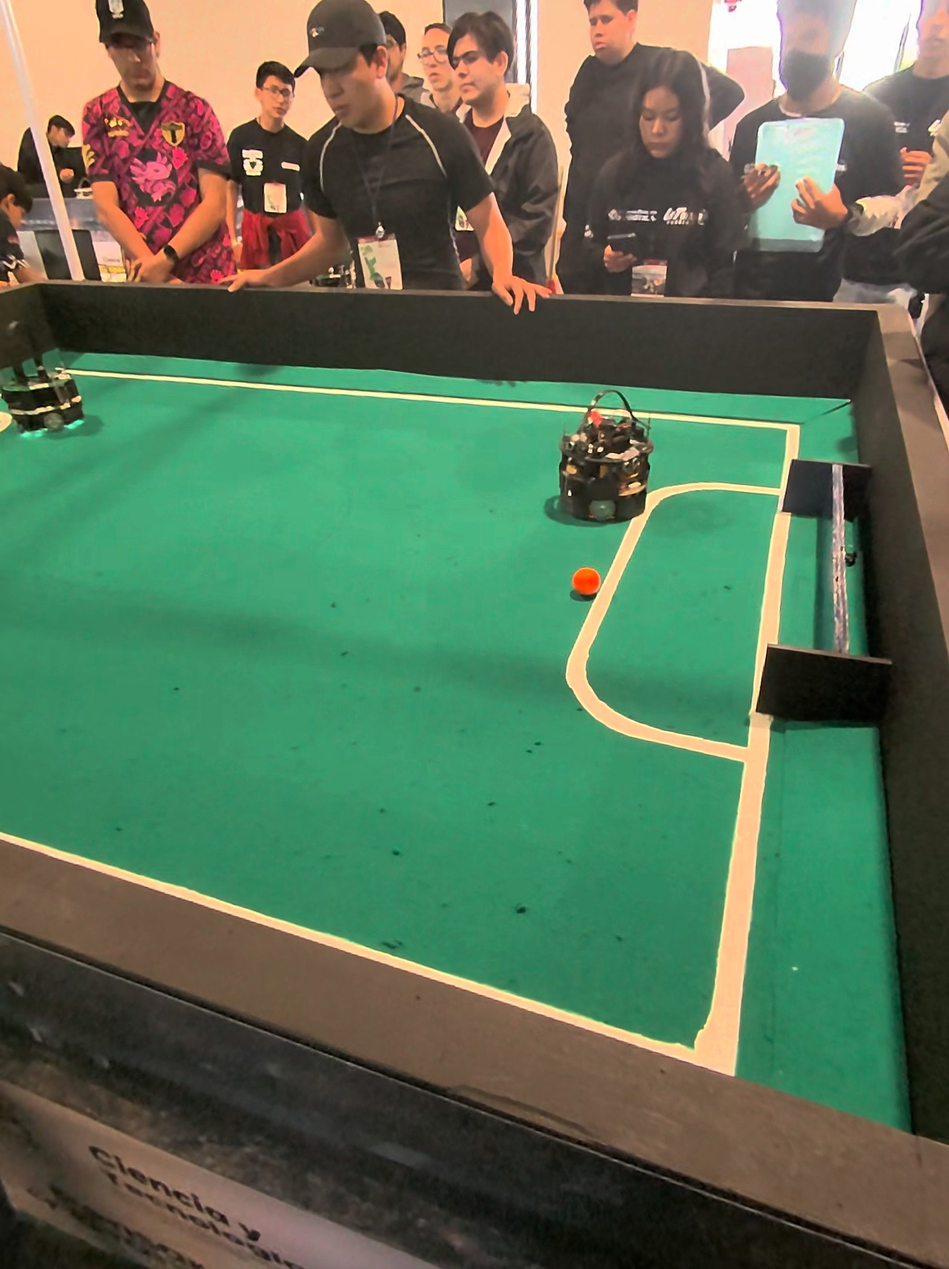Robot: (0, 288, 94, 461), (551, 389, 655, 530)
pelota: (570, 563, 601, 599)
